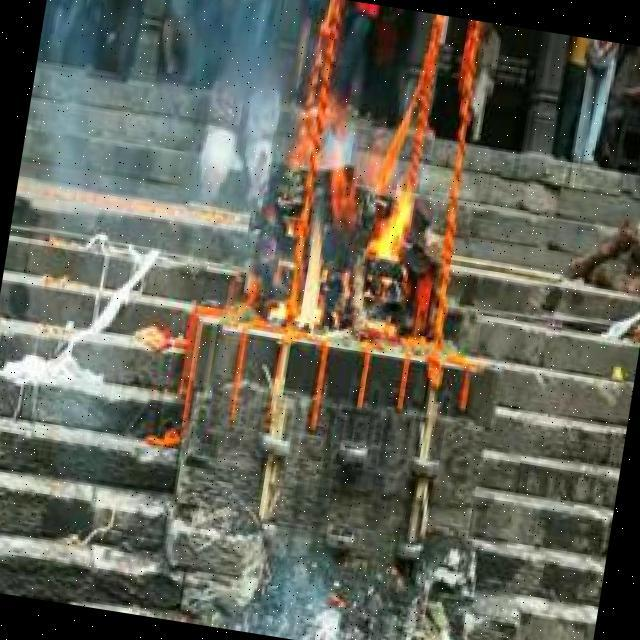Fire: (286, 98, 434, 346)
